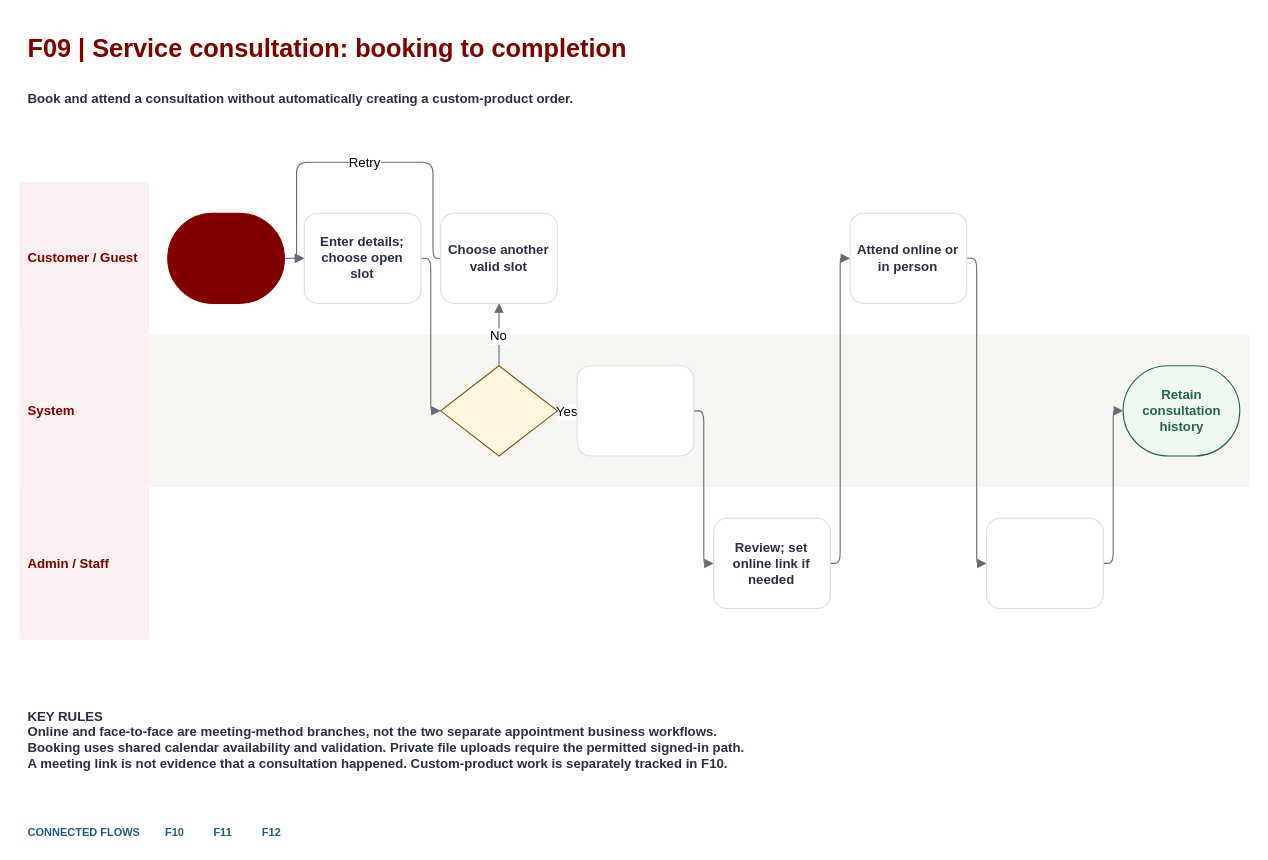
Image size: 1268x860. Some labels were removed from this diagram. The shapes that lost their labels are listed below. From the top down, each one's centre as x and y in pixels, then its label:
point 225,257: Choose service and meeting method
point 498,410: Slot valid?
point 635,410: Save booking; send reference
point 1044,563: Confirm consultation completed
